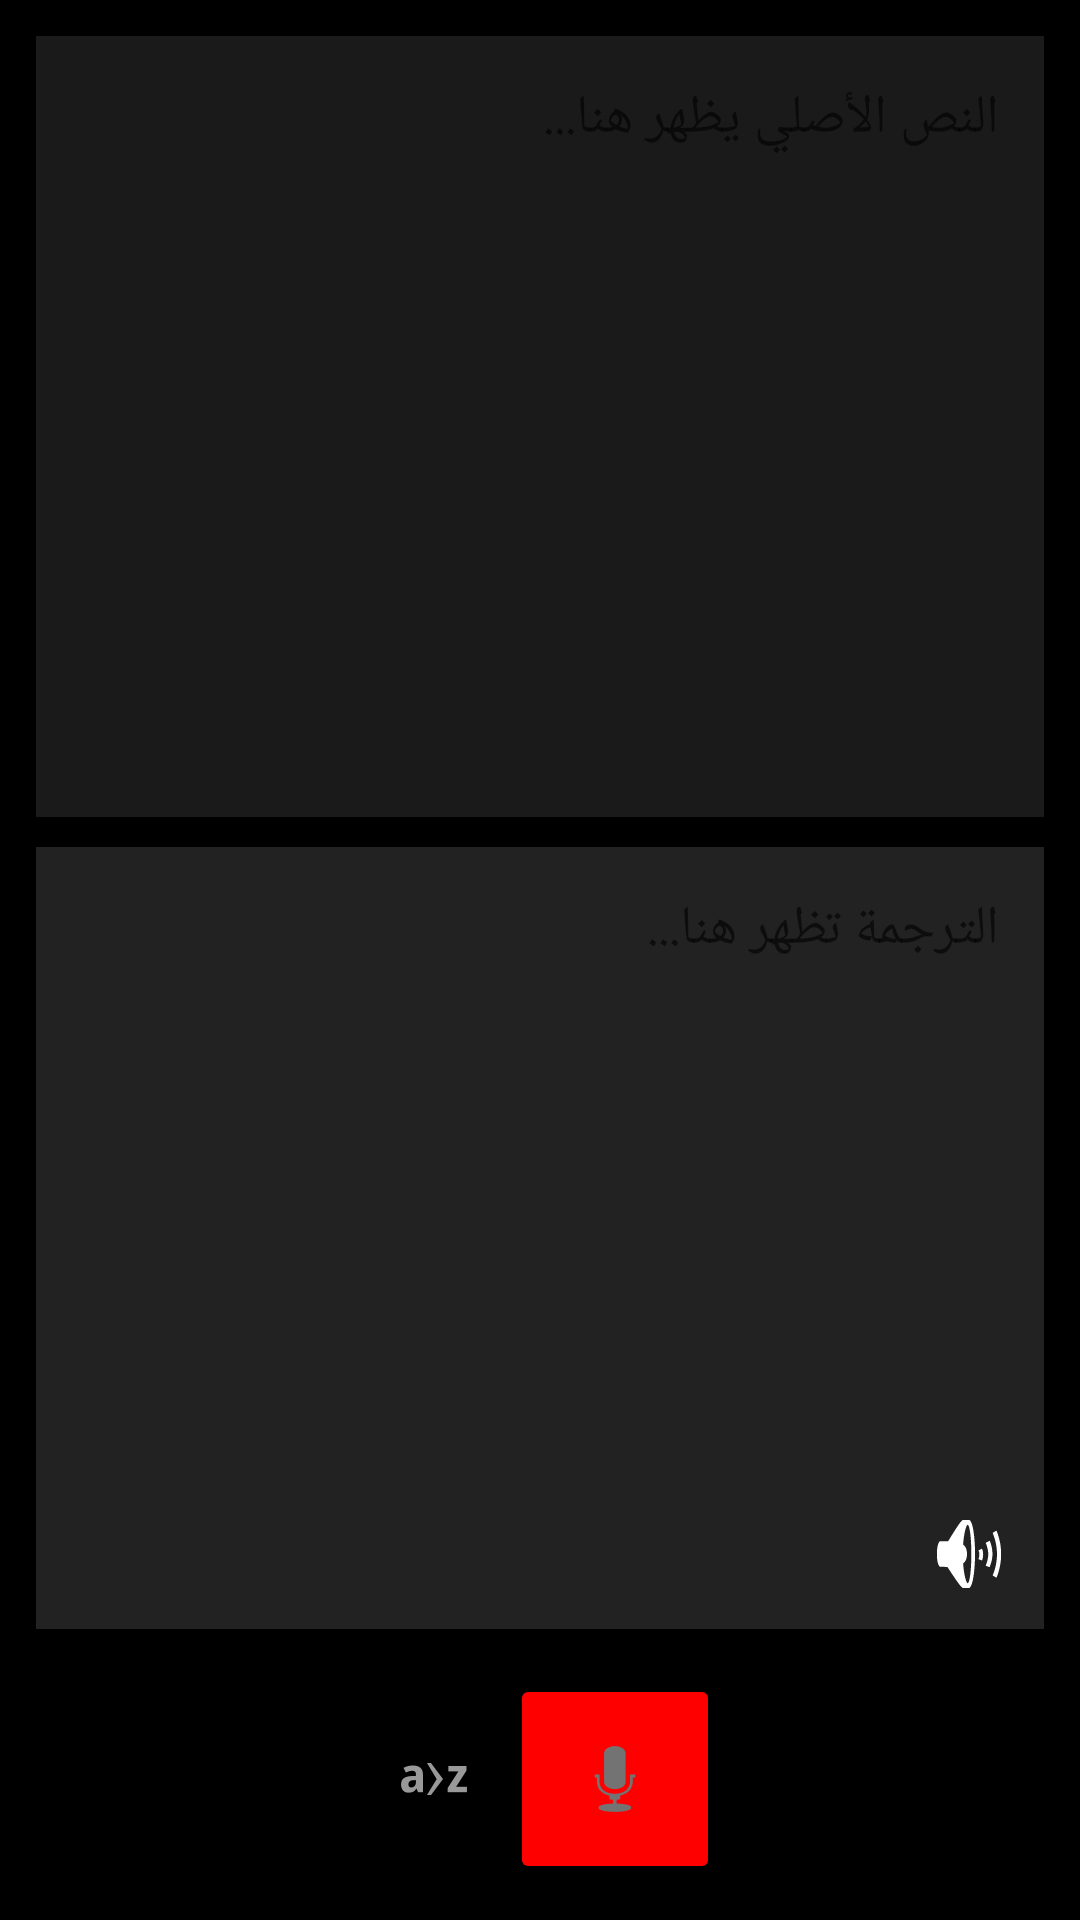

Where to tap for icons on this 1080x1920 app screen, as (x,y):
lock silent mode off: (969,1554)
sort alphabetically: (434,1779)
speak now: (615,1779)
